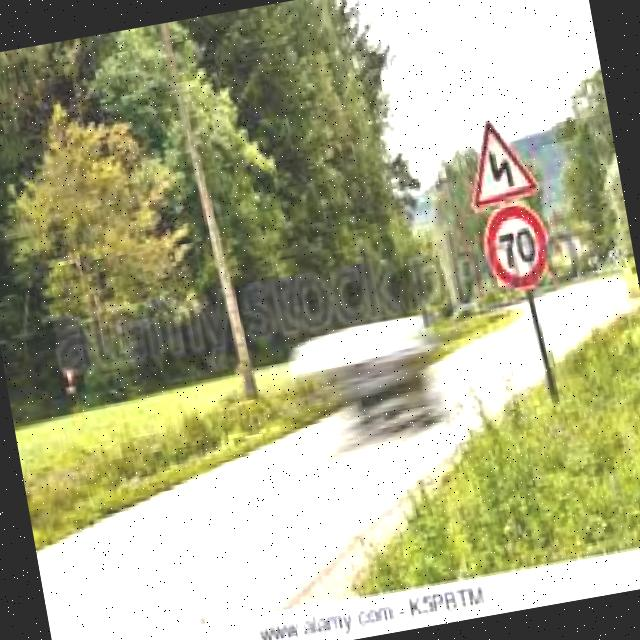Ograniczenie predkosci do 70: (476, 193, 560, 305)
